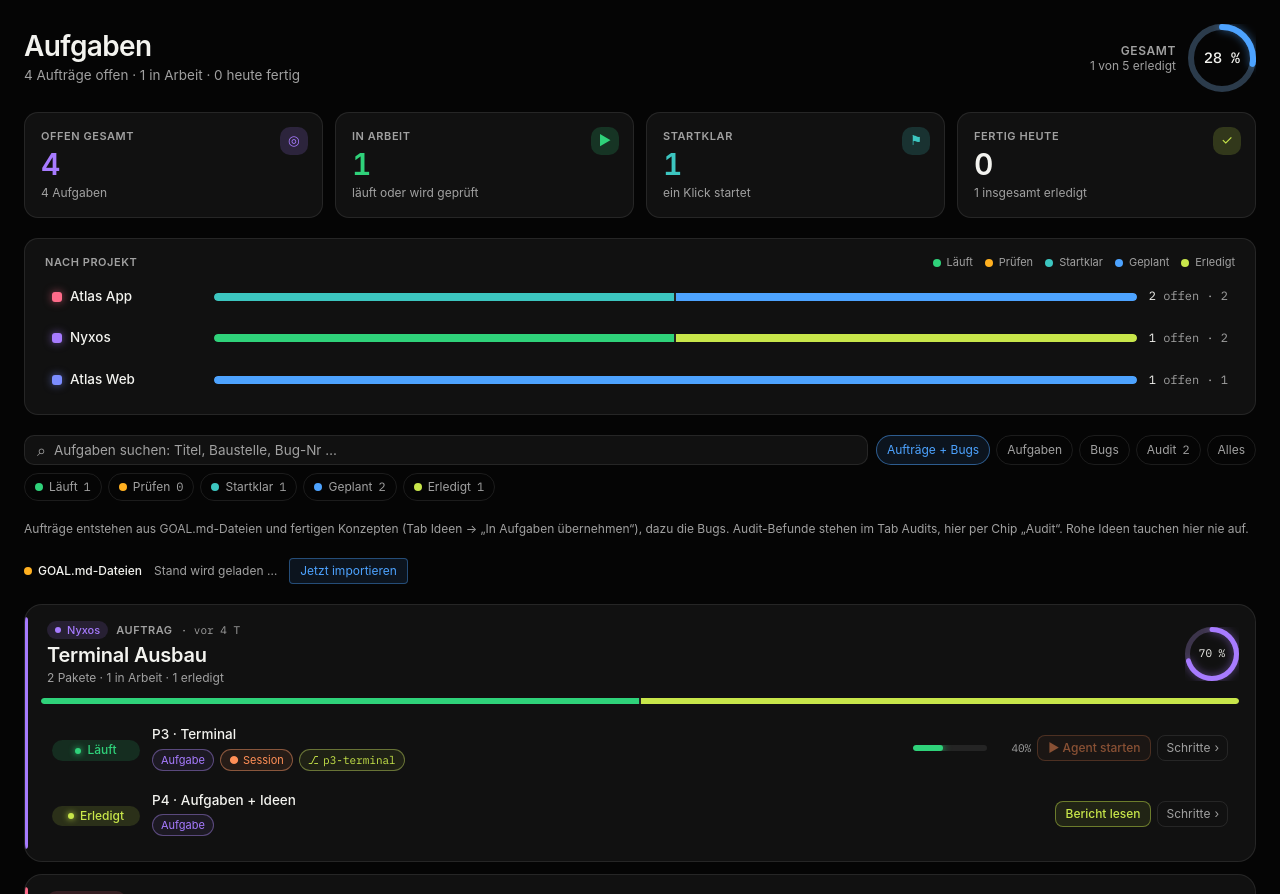
Aufgaben-Tab (Ansicht) › Schritte aufklappen: Häkchen-Liste plus Session- und Commit-Chips
Click the button with aria-label "Schritte von P3 · Terminal" at (1193, 748), box top-left (1158, 735), bottom-right (1228, 761)
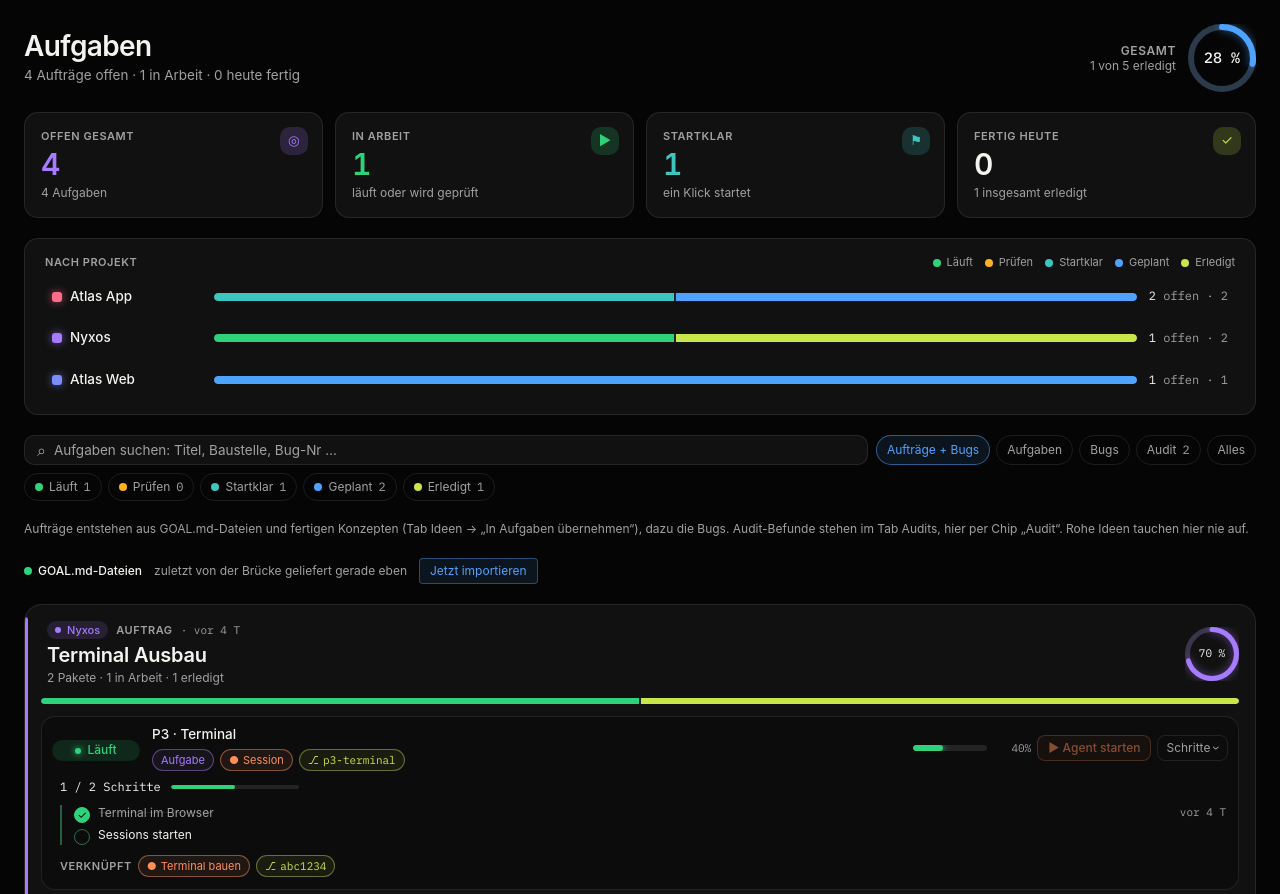
Expected: the text "Terminal im Browser" is shown, top-left (98, 805), bottom-right (214, 820)
Expected: the text "Sessions starten" is shown, top-left (98, 827), bottom-right (192, 842)
Expected: the text "1 / 2 Schritte" is shown, top-left (60, 779), bottom-right (161, 795)
